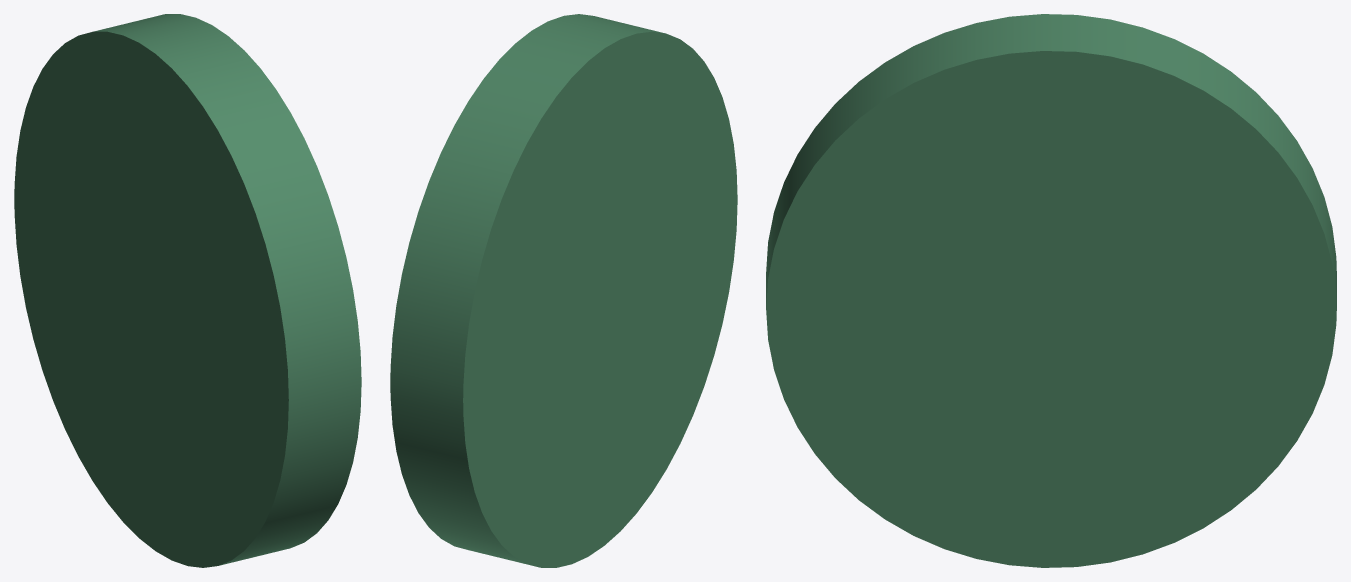
The model's file is MS3625_Mic_Right_v3_4b.glb.
3 views of the same model, side by side, from view 1: azimuth 30°, elevation 25°; view 2: azimuth 150°, elevation 25°; view 3: azimuth 270°, elevation 25° (orthographic). The views are drawn at different scales.
Visible parts, largest first — view 1: MS3625_Mic_Right_v3_4b; view 2: MS3625_Mic_Right_v3_4b; view 3: MS3625_Mic_Right_v3_4b.
Boxes of the visible parts, bbox=[...] form: MS3625_Mic_Right_v3_4b: bbox=[14, 14, 361, 567]; MS3625_Mic_Right_v3_4b: bbox=[390, 14, 737, 567]; MS3625_Mic_Right_v3_4b: bbox=[766, 14, 1336, 567].
Size of the model in its own units: 1.99 by 12.99 by 13.
